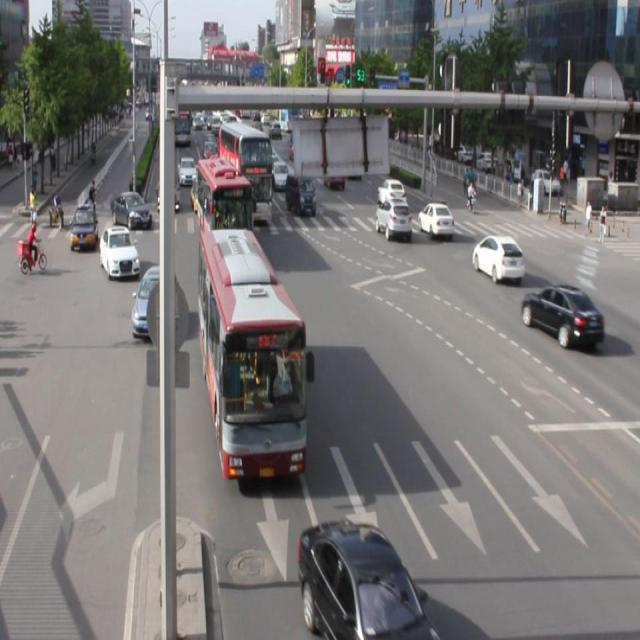car: (297, 520, 439, 640), (518, 281, 602, 347), (132, 263, 179, 337), (471, 234, 523, 280), (99, 225, 141, 280), (376, 197, 411, 239), (417, 201, 454, 235)
van: (200, 230, 306, 476)
